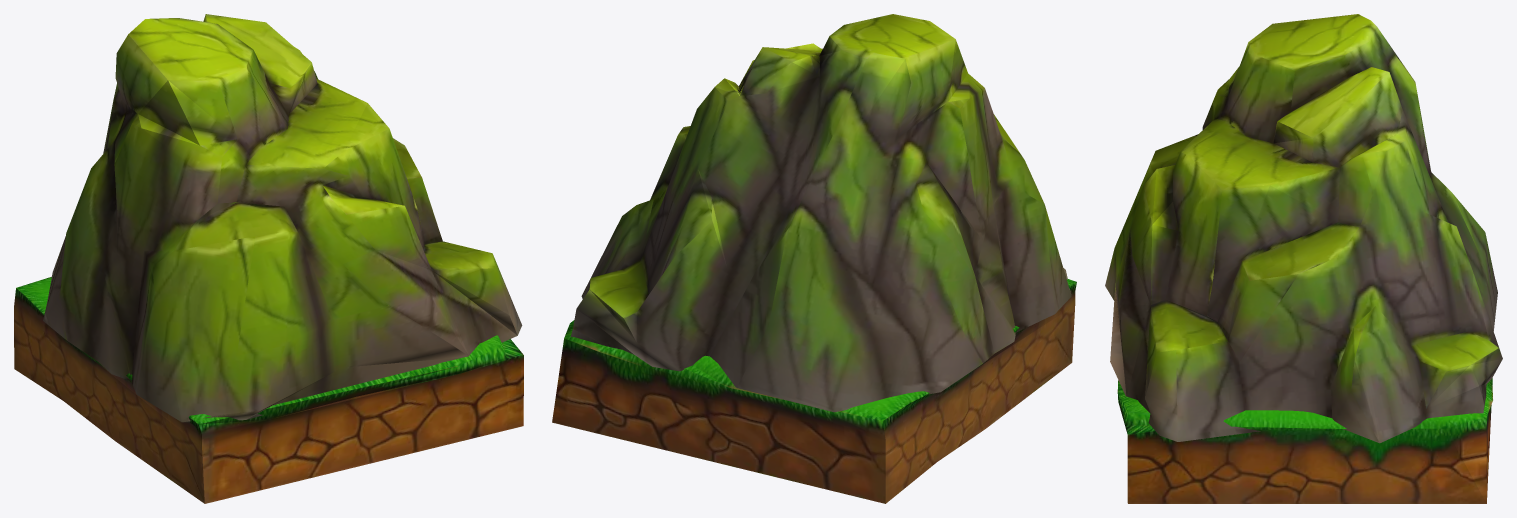
Rendered from mtn_mountain.glb.
3 renders of one model, left to right at view 1: azimuth 30°, elevation 25°; view 2: azimuth 150°, elevation 25°; view 3: azimuth 270°, elevation 25°, orthographic. The views are drawn at different scales.
Parts seen in each view (by area): view 1: Mesh_0; view 2: Mesh_0; view 3: Mesh_0.
Boxes of the visible parts, x1=… form: Mesh_0: x1=14, y1=14, x2=523, y2=503; Mesh_0: x1=552, y1=14, x2=1076, y2=503; Mesh_0: x1=1105, y1=14, x2=1502, y2=503.
Bounding box in the file's own units: 2.04 × 1.98 × 1.96.
2 materials, 2 textured.
